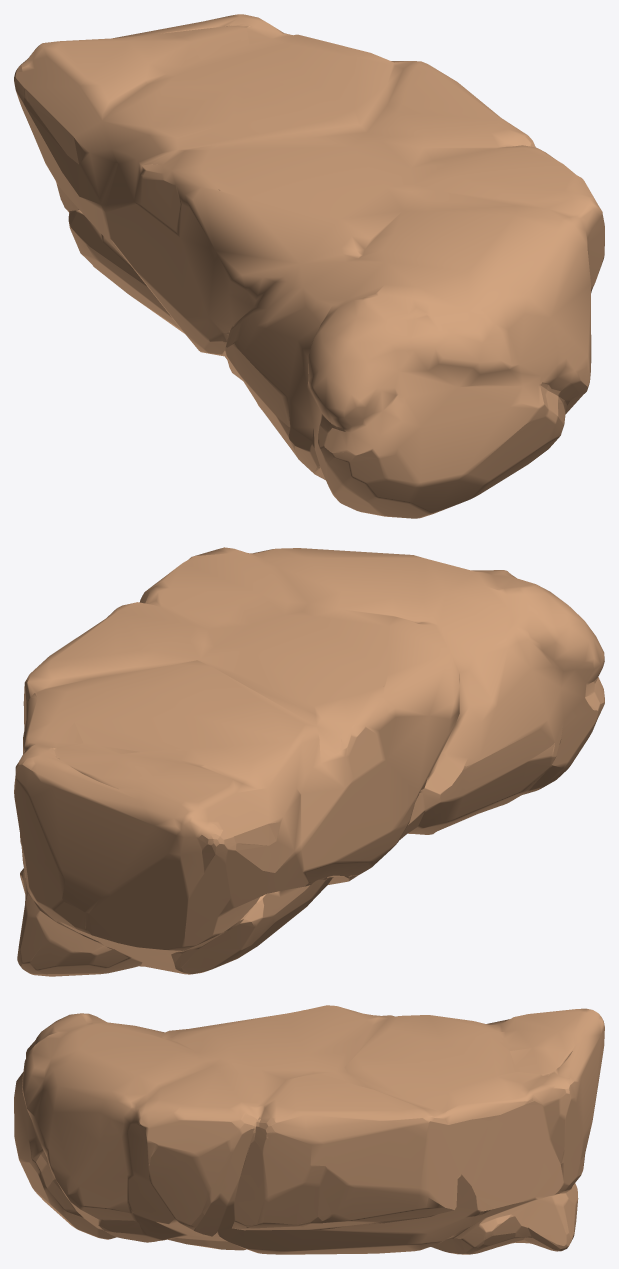
3 views of the same model, one above another, from view 1: azimuth 30°, elevation 25°; view 2: azimuth 150°, elevation 25°; view 3: azimuth 270°, elevation 25° (orthographic). The views are drawn at different scales.
Visible parts, largest first — view 1: Mesh_56_LOD0; view 2: Mesh_56_LOD0; view 3: Mesh_56_LOD0.
Boxes of the visible parts, x1=… form: Mesh_56_LOD0: x1=14, y1=14, x2=604, y2=518; Mesh_56_LOD0: x1=14, y1=547, x2=604, y2=976; Mesh_56_LOD0: x1=14, y1=1005, x2=604, y2=1254.
Size of what is drawn, in the model's own units: 1728 by 1068 by 3140.
